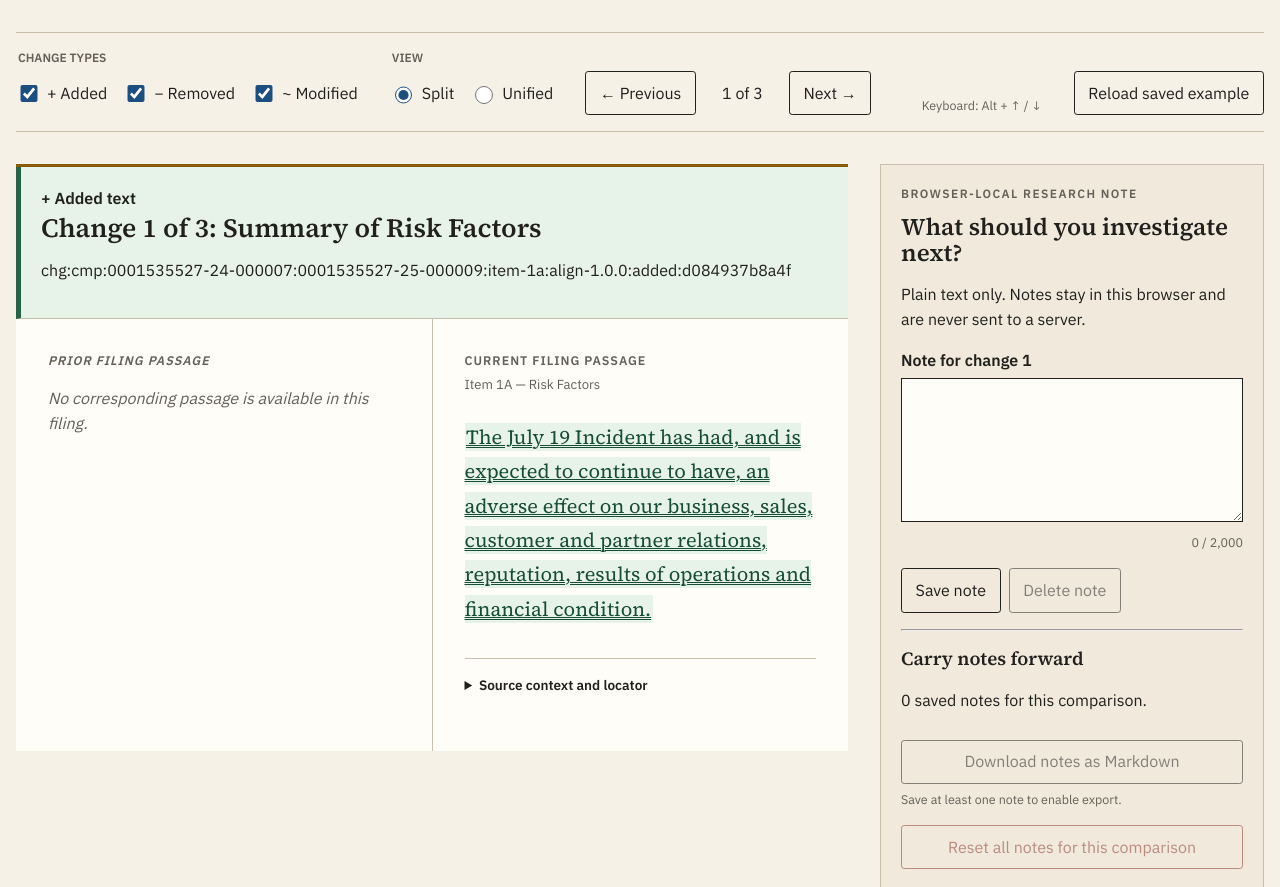
it: P-01/P-05/P-11/QA-04 comparison workspace › NOTE-02 preserves the in-session draft when local storage fails
(page scrolled)
Type "Keep this draft in memory" into the text box labelled "Note for change 1". click: [1072, 450]
box: [901,378,1243,522]
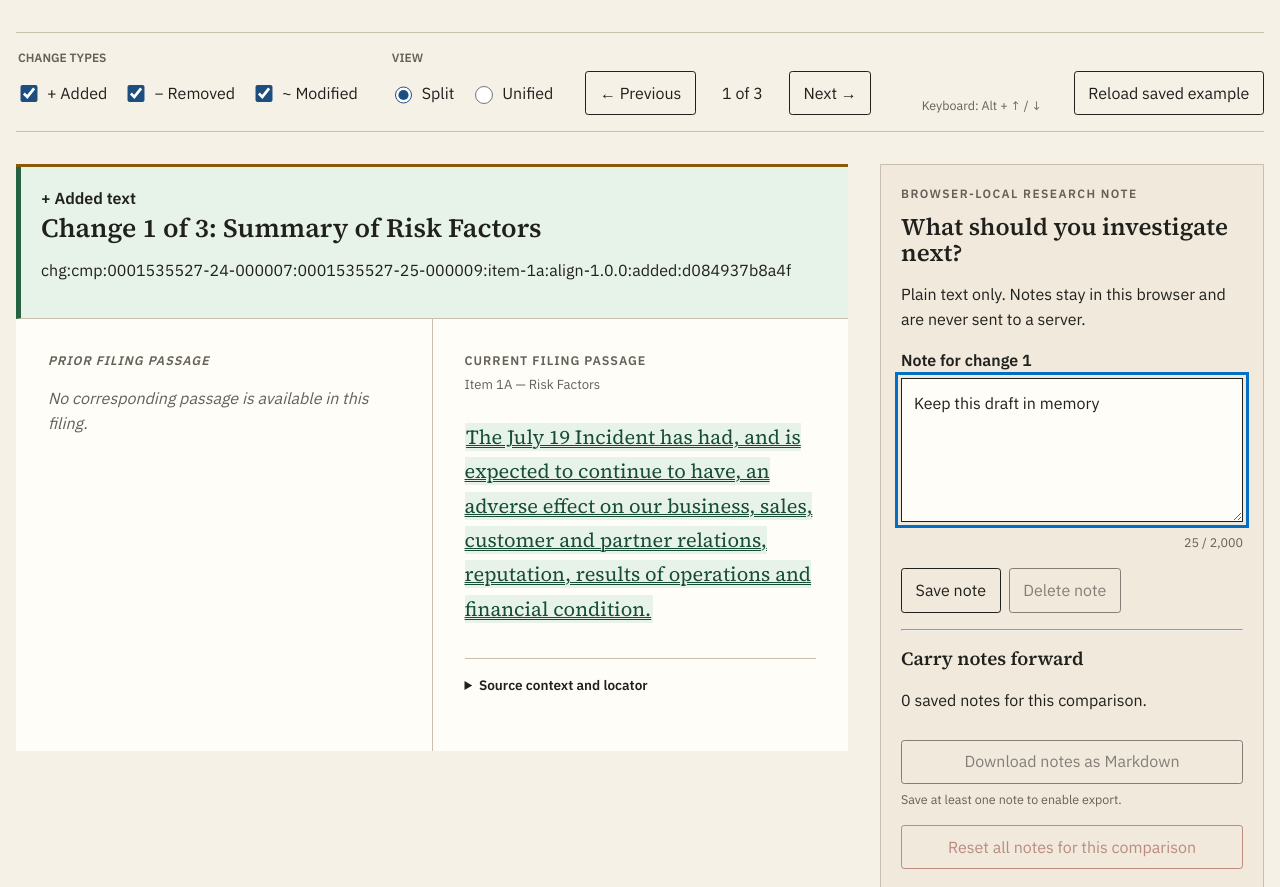
Click the button "Save note". click: [951, 591]
box: [901,568,1001,613]
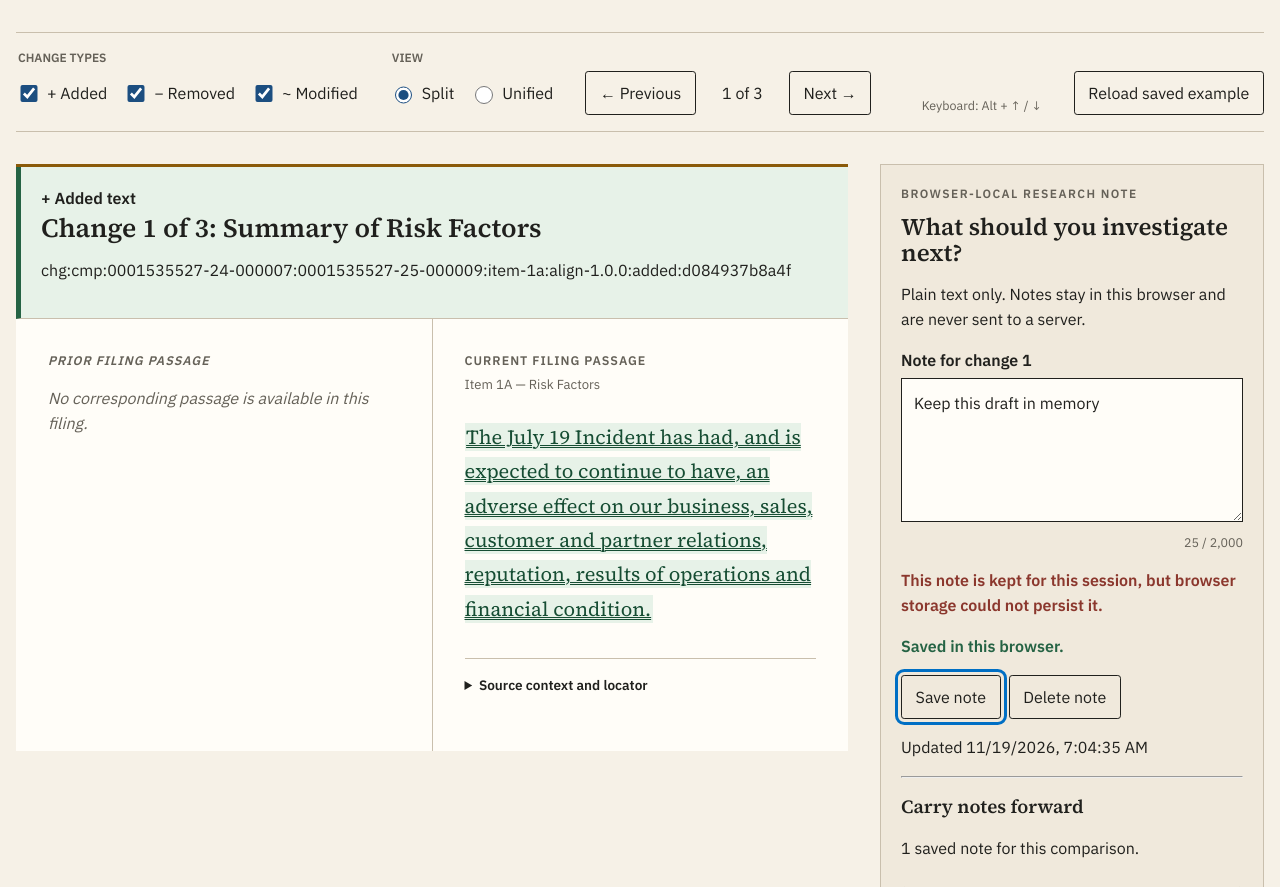
Now the text "This note is kept for this session, but browser storage could not persist it." is shown, box [901,568,1243,618]
